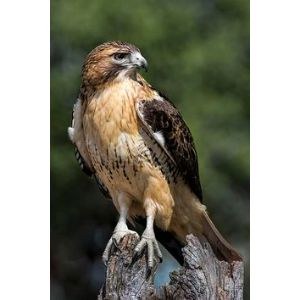hawk: (67, 37, 246, 273)
